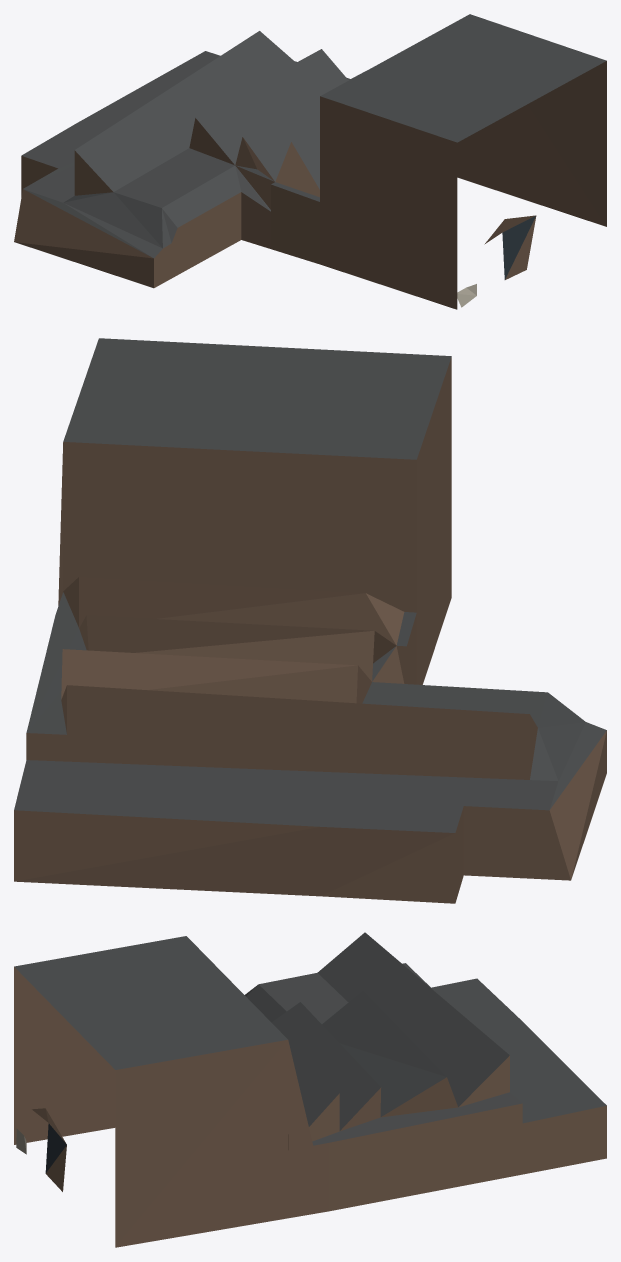
File: el-tawheed.lod2.glb
3 views of the same model, one above another, from view 1: azimuth 30°, elevation 25°; view 2: azimuth 150°, elevation 25°; view 3: azimuth 270°, elevation 25° (orthographic). The views are drawn at different scales.
Parts seen in each view (by area): view 1: lod2; view 2: lod2; view 3: lod2.
Boxes of the visible parts, <box> form: lod2: <box>14,14,606,309</box>; lod2: <box>14,338,606,903</box>; lod2: <box>14,932,606,1247</box>.
Size of the model in its own units: 33.44 by 11.69 by 34.95.
